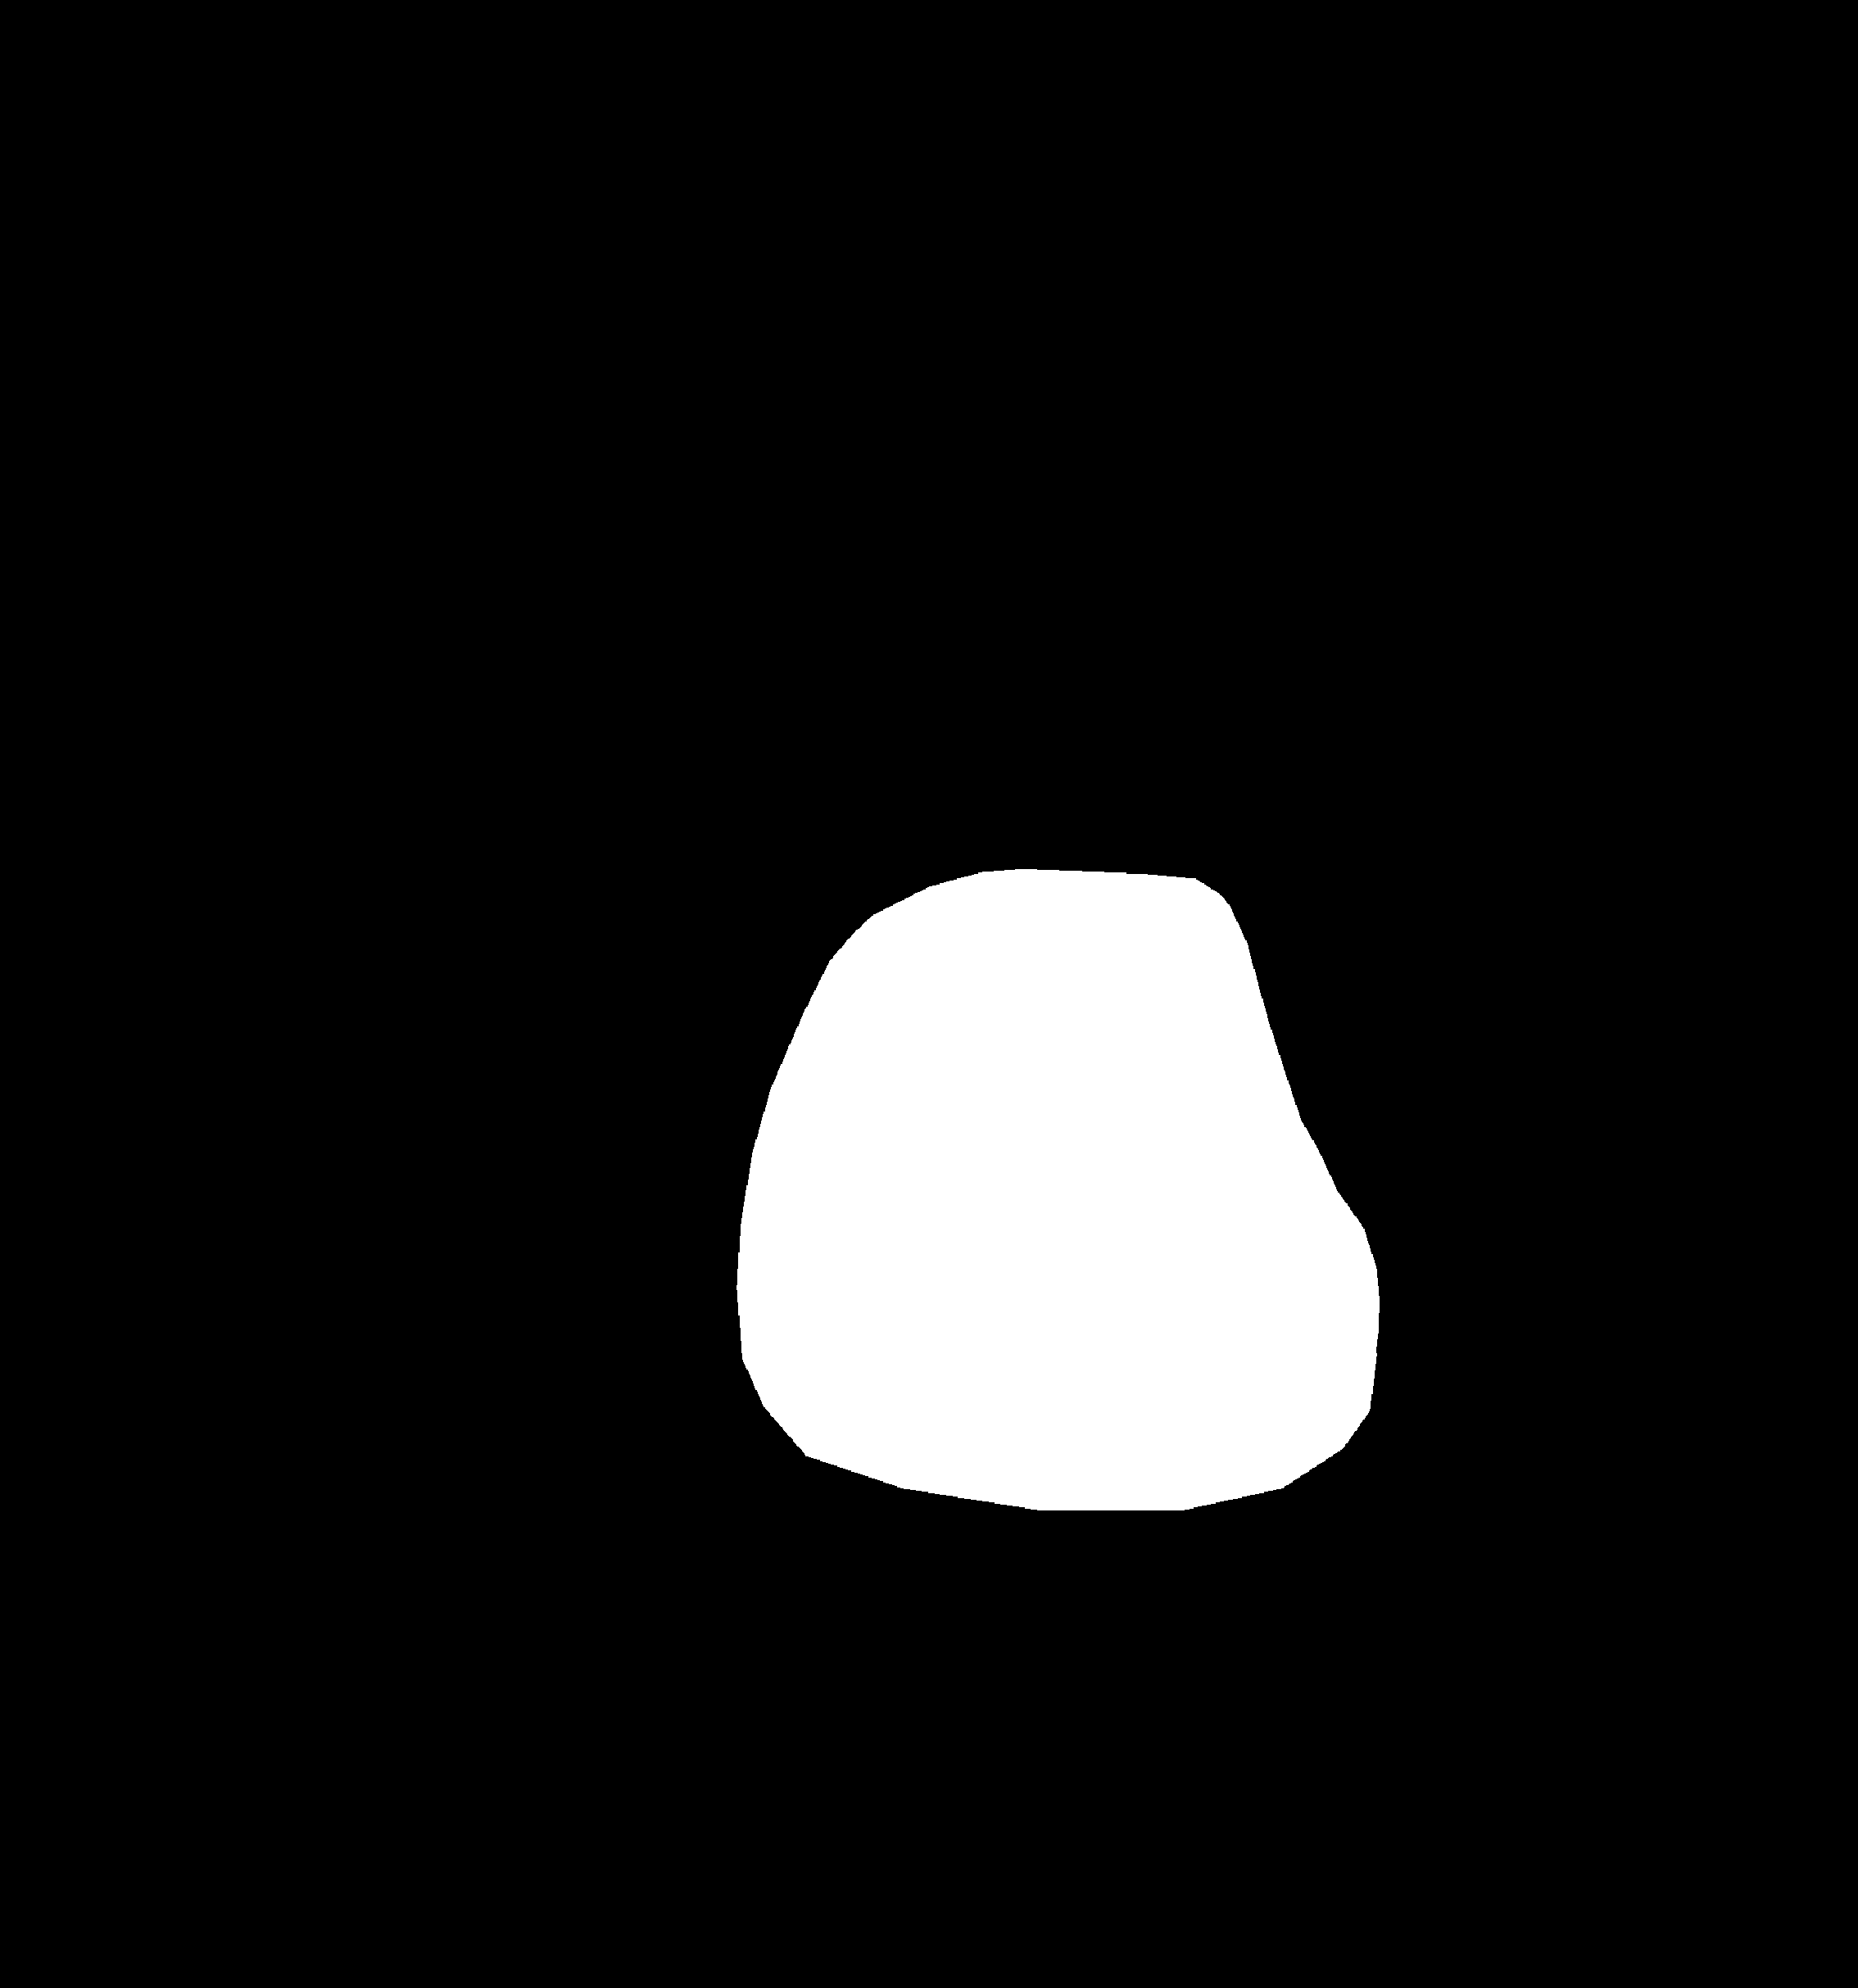heart: (737, 995, 1380, 1564)
left_lung: (152, 150, 870, 1737)
right_lung: (1036, 216, 1636, 1745)
